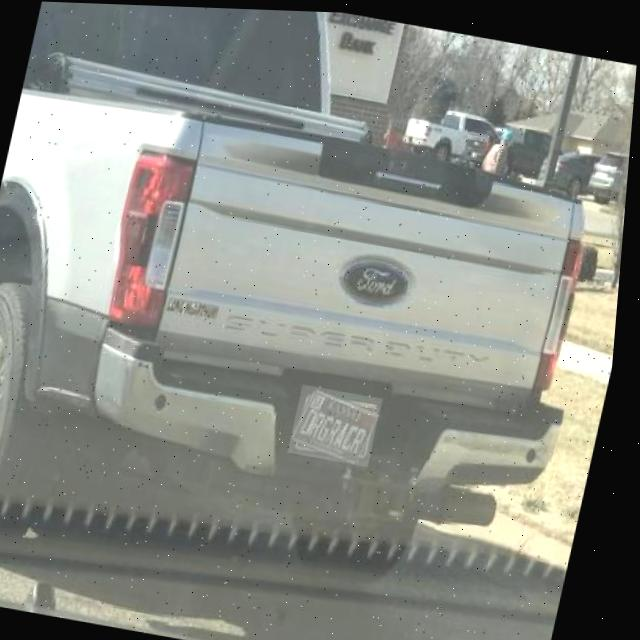LicensePlate: (298, 384, 387, 462)
